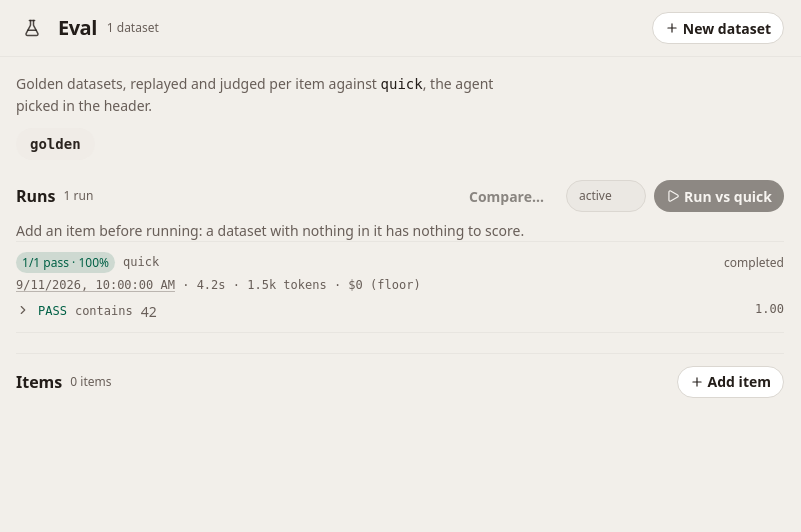
it: a run says what it cost, and when its judge did not run › says an item was unpriced rather than free
Click the button "pass contains 42 1.00": (104, 311) [16,301,784,322]
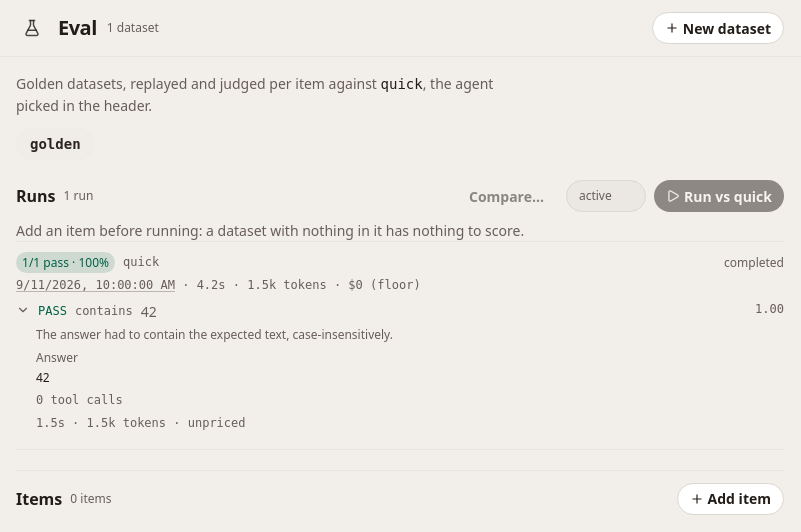
Now the text "1.5s · 1.5k tokens · unpriced" is shown, box [36,416,246,430]
